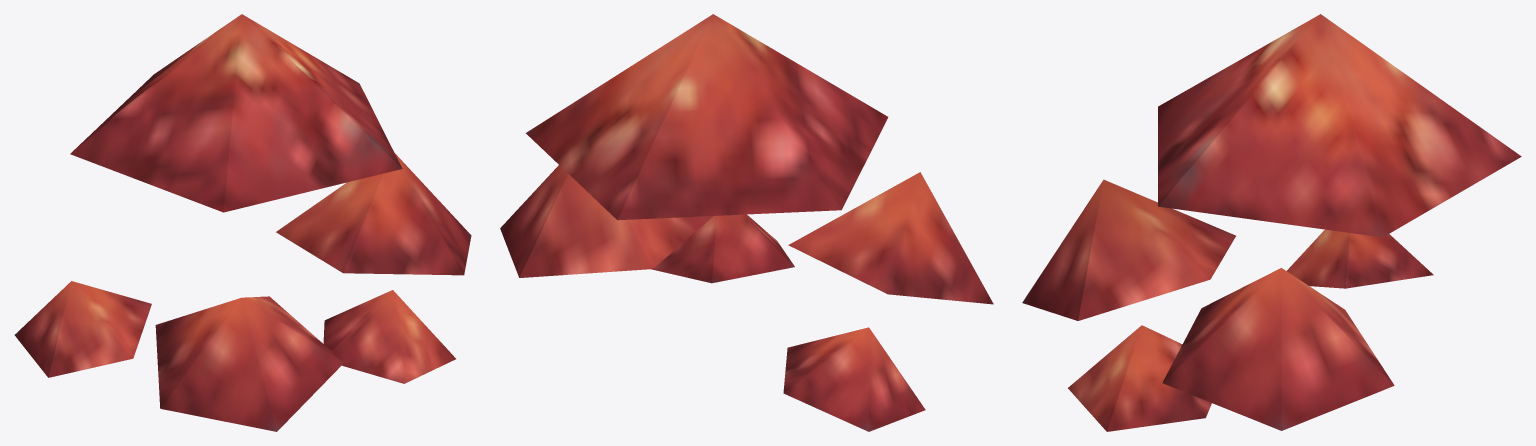
File: Shrooms2.fbx
3 views of the same model, side by side, from view 1: azimuth 30°, elevation 25°; view 2: azimuth 150°, elevation 25°; view 3: azimuth 270°, elevation 25° (orthographic). The views are drawn at different scales.
Parts seen in each view (by area): view 1: Shrooms2; view 2: Shrooms2; view 3: Shrooms2.
Part boxes in pixels (x1,y1,x2,y2): Shrooms2: [14, 14, 471, 431]; Shrooms2: [500, 14, 993, 431]; Shrooms2: [1022, 14, 1521, 431].
Size of the model in its own units: 3.25 by 3.02 by 2.41.
